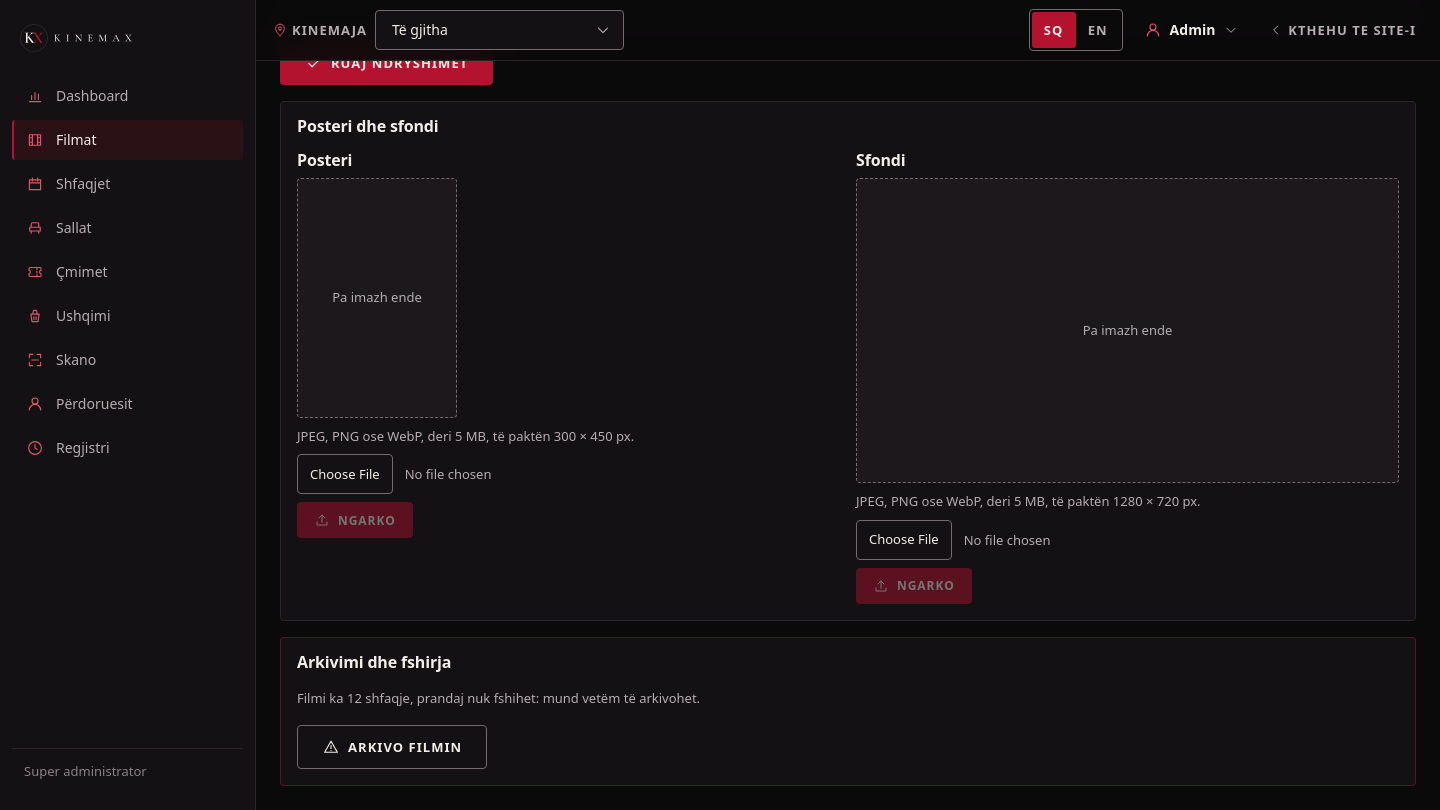
the movie form › archives after a dialog that says what happens to the shows, and never offers delete
The image size is (1440, 810).
(page scrolled)
Expected: the text "Filmi ka 12 shfaqje, prandaj nuk fshihet" is shown, [297,689,700,707]
Click the button "Arkivo filmin".
click(392, 747)  # box [297,725,487,769]
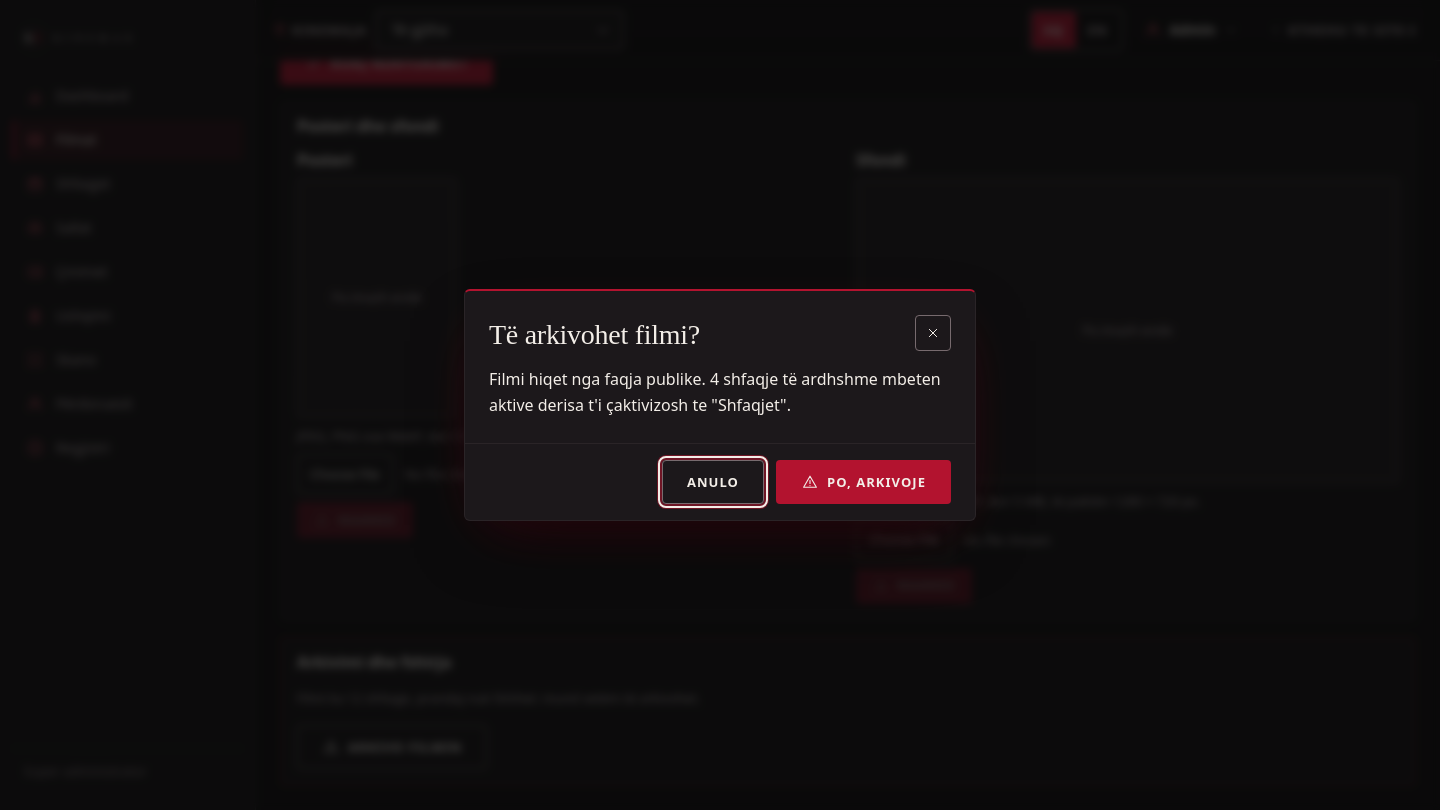
Result: the text "4 shfaqje të ardhshme mbeten aktive" is shown at [489,368,941,416]
Click the button "Po, arkivoje".
click(863, 482)  # box [776,460,951,504]
(page scrolled)
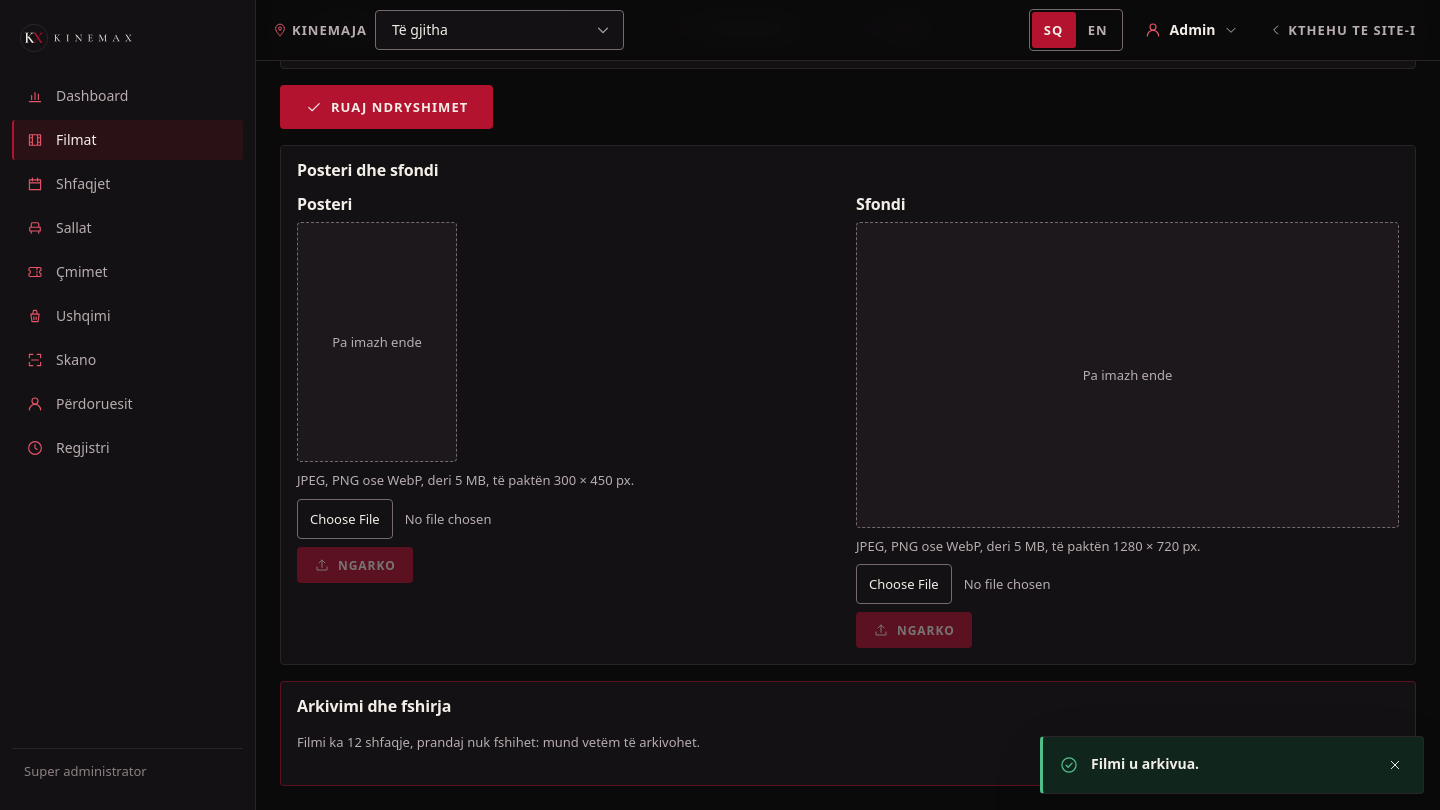
Result: the text "Filmi u arkivua." is shown at [1091,754,1199,773]
